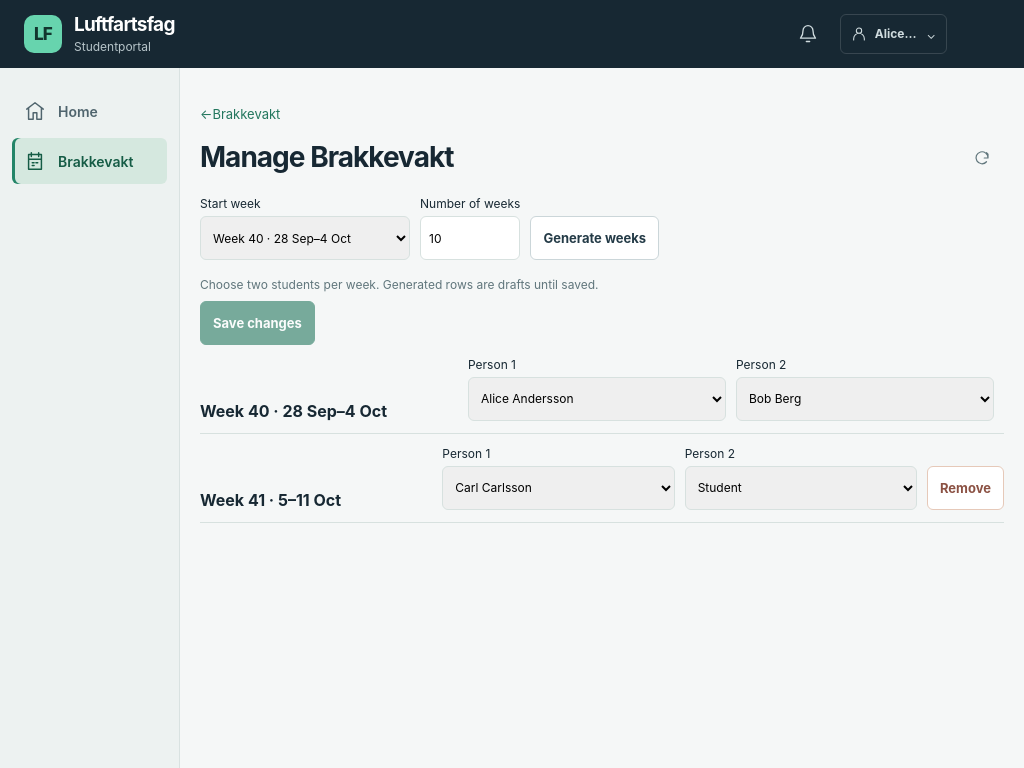
Test: Brakkevakt portal UI › saves only completed changed weeks from the manager
expect the button "Save changes" is disabled: met, box [200,301,315,345]
Select "Carl Carlsson" in the dropdown labelled "Person 1" next to "Week 40 · 28 Sep–4 Oct" at (597, 399), box [468,377,726,421]
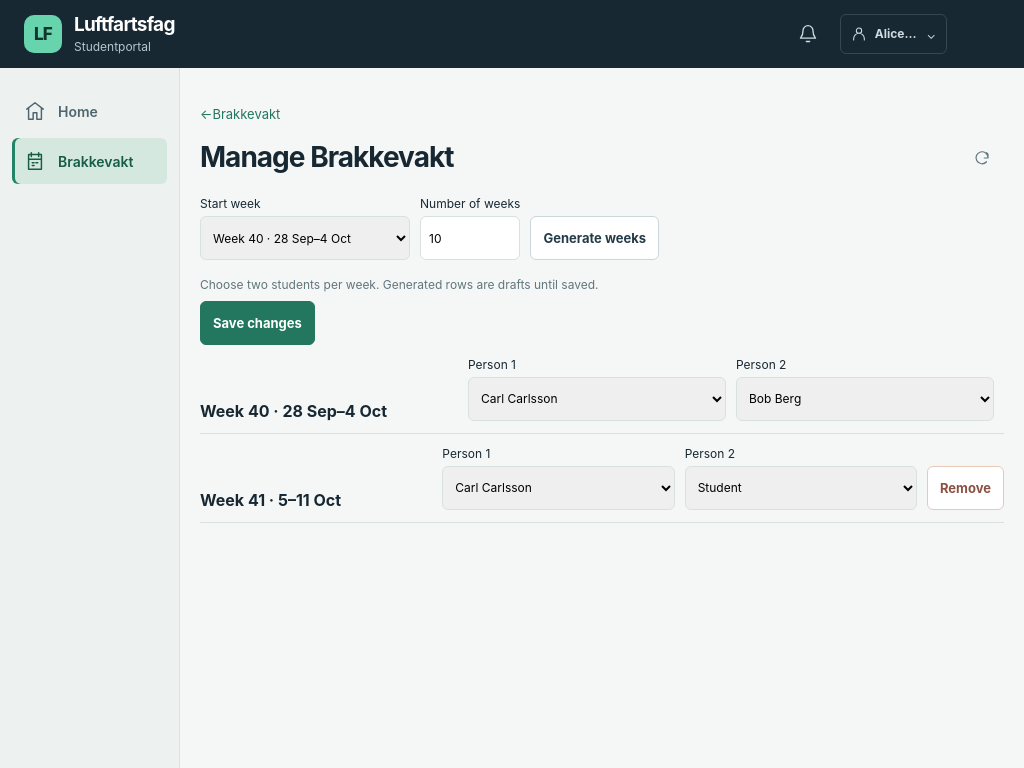
expect the button "Save changes" is enabled: met
Click the button "Save changes".
click(257, 323)  # box [200,301,315,345]
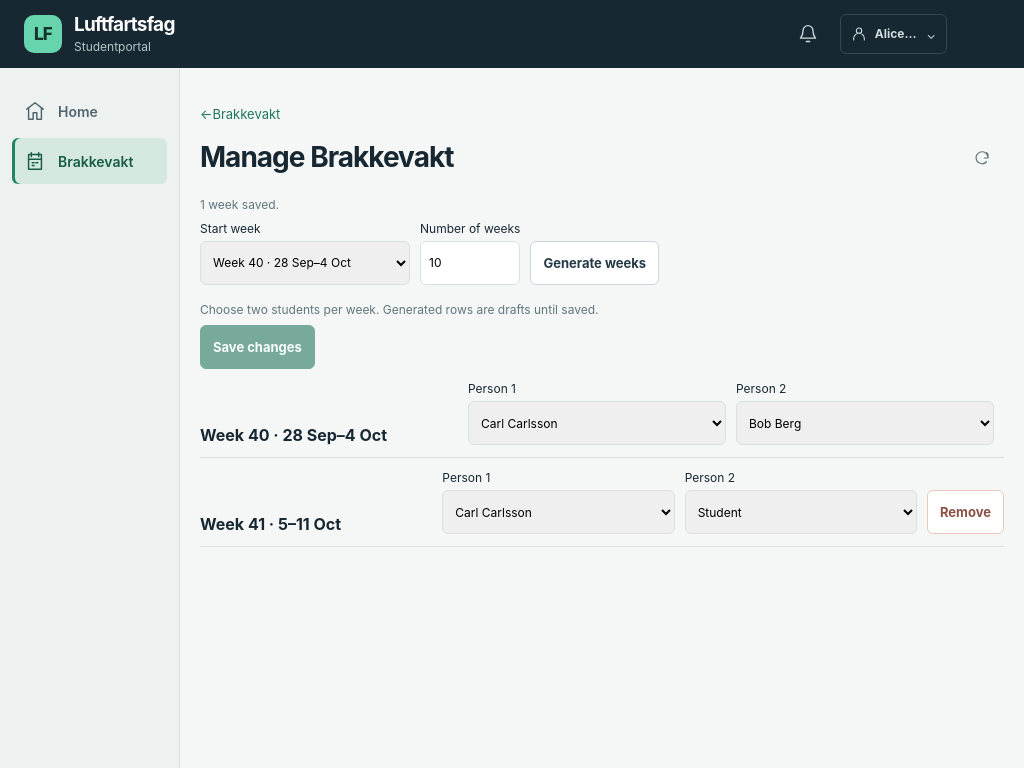
expect the button "Save changes" is disabled: met, box [200,325,315,369]
